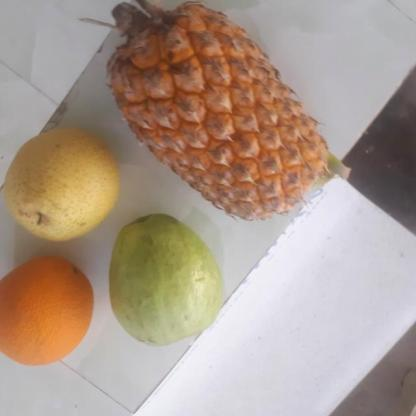guava: (110, 214, 228, 343)
orange: (0, 254, 96, 366)
pear: (0, 128, 124, 242)
pineapple: (116, 8, 329, 218)
